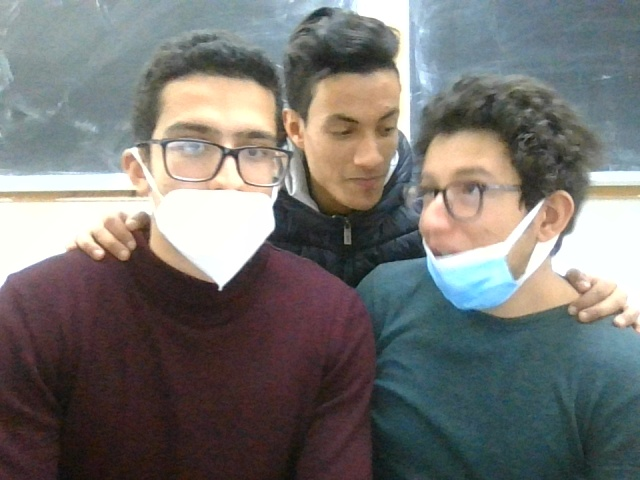mask_weared_incorrect: (146, 32, 283, 287)
without_mask: (286, 9, 413, 212)
